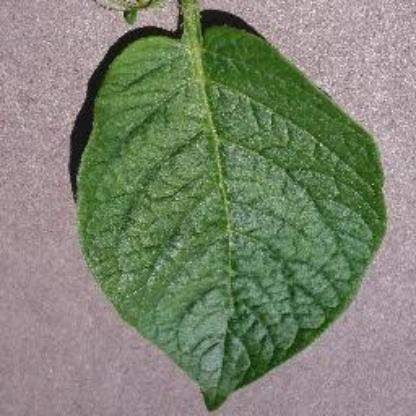Healthy-plant: (12, 13, 408, 381)
